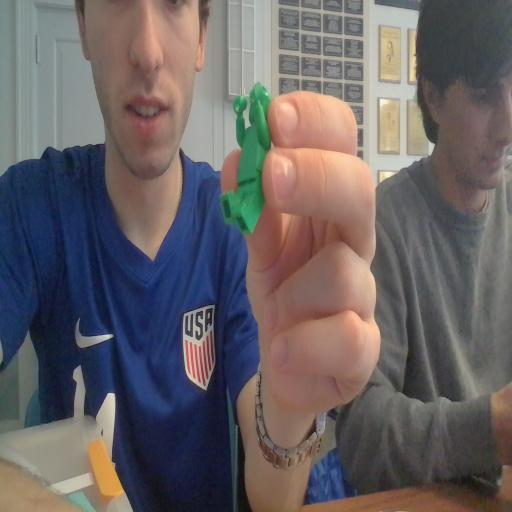green LEGO minifig: (220, 73, 276, 247)
